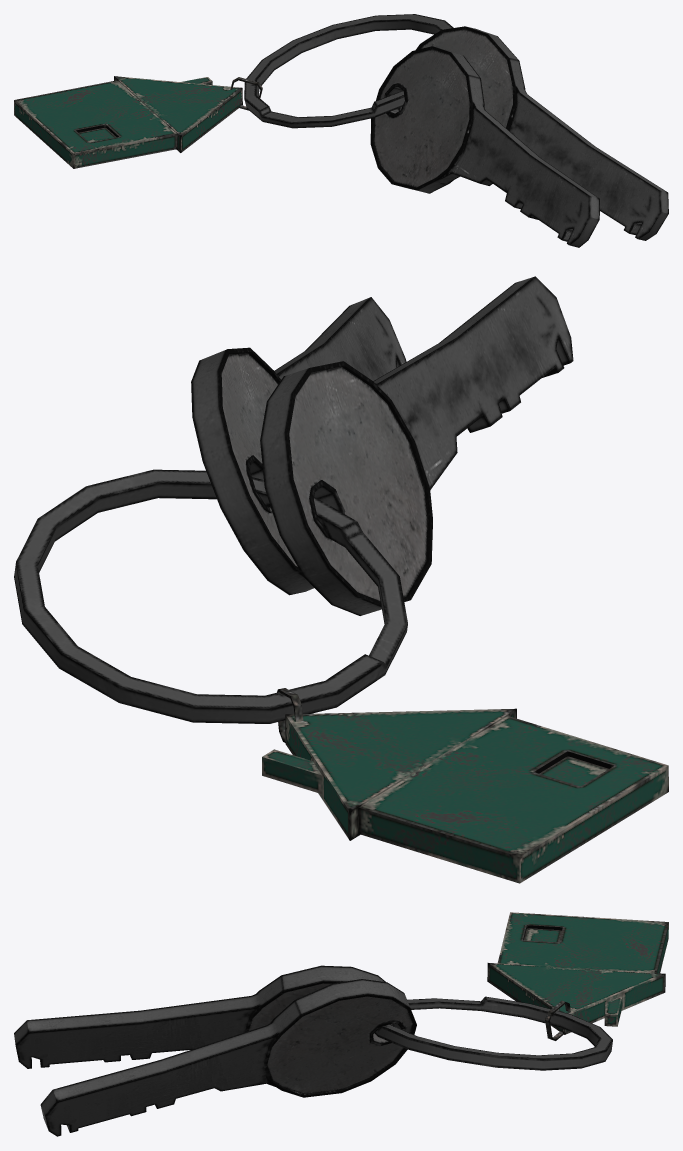
File: Keys.fbx
3 renders of one model, top to bottom at view 1: azimuth 30°, elevation 25°; view 2: azimuth 150°, elevation 25°; view 3: azimuth 270°, elevation 25°, orthographic. The views are drawn at different scales.
Visible parts, largest first — view 1: Cylinder.016; view 2: Cylinder.016; view 3: Cylinder.016.
Boxes of the visible parts, box(x1,y1,x2,y2) form: Cylinder.016: box(14, 14, 668, 247); Cylinder.016: box(14, 276, 668, 883); Cylinder.016: box(14, 912, 668, 1136).
Bounding box in the file's own units: 0.1359 × 0.0435 × 0.1807.
